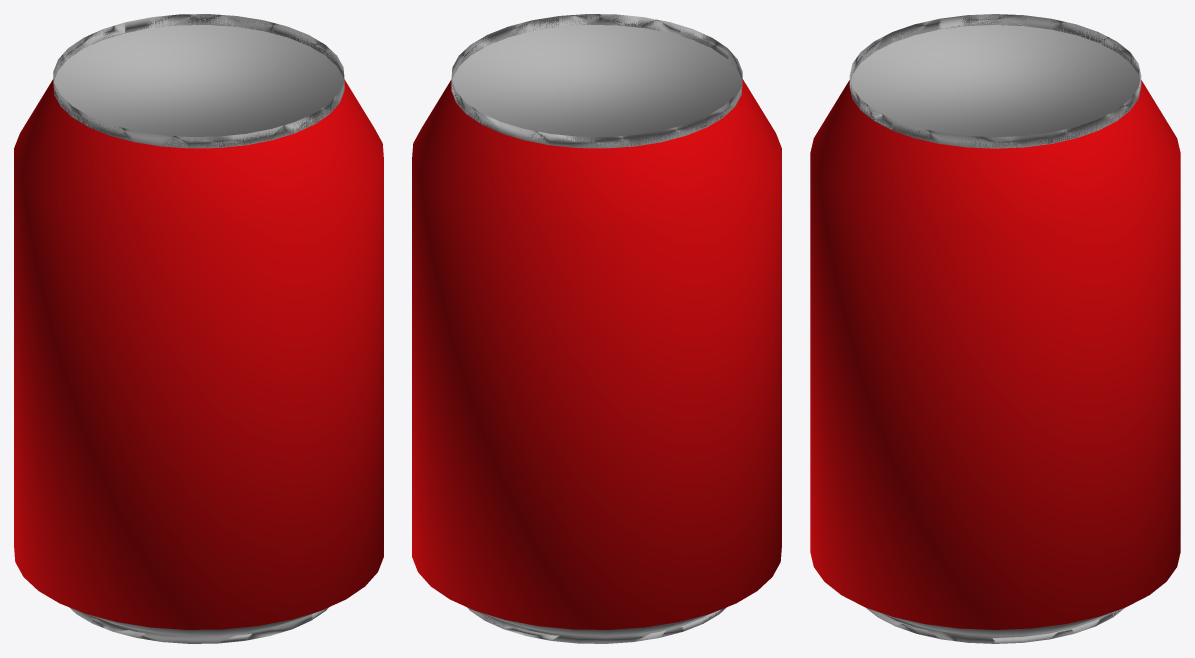
File: soda.fbx
3 renders of one model, left to right at view 1: azimuth 30°, elevation 25°; view 2: azimuth 150°, elevation 25°; view 3: azimuth 270°, elevation 25°, orthographic.
Parts seen in each view (by area): view 1: Cylinder; view 2: Cylinder; view 3: Cylinder.
Boxes of the visible parts, bbox=[...] form: Cylinder: bbox=[14, 14, 383, 643]; Cylinder: bbox=[412, 14, 781, 643]; Cylinder: bbox=[810, 14, 1180, 643].
Bounding box in the file's own units: 200 × 303 × 200.
